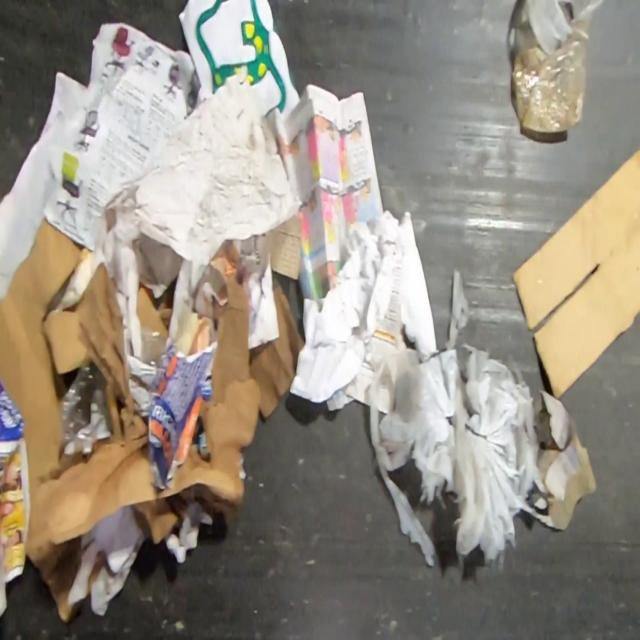cardboard: (0, 216, 261, 628), (510, 148, 640, 400), (136, 285, 173, 339)
rigid_plastic: (510, 17, 592, 138)
soft_plastic: (366, 263, 554, 568), (58, 361, 113, 435), (140, 325, 167, 368)
